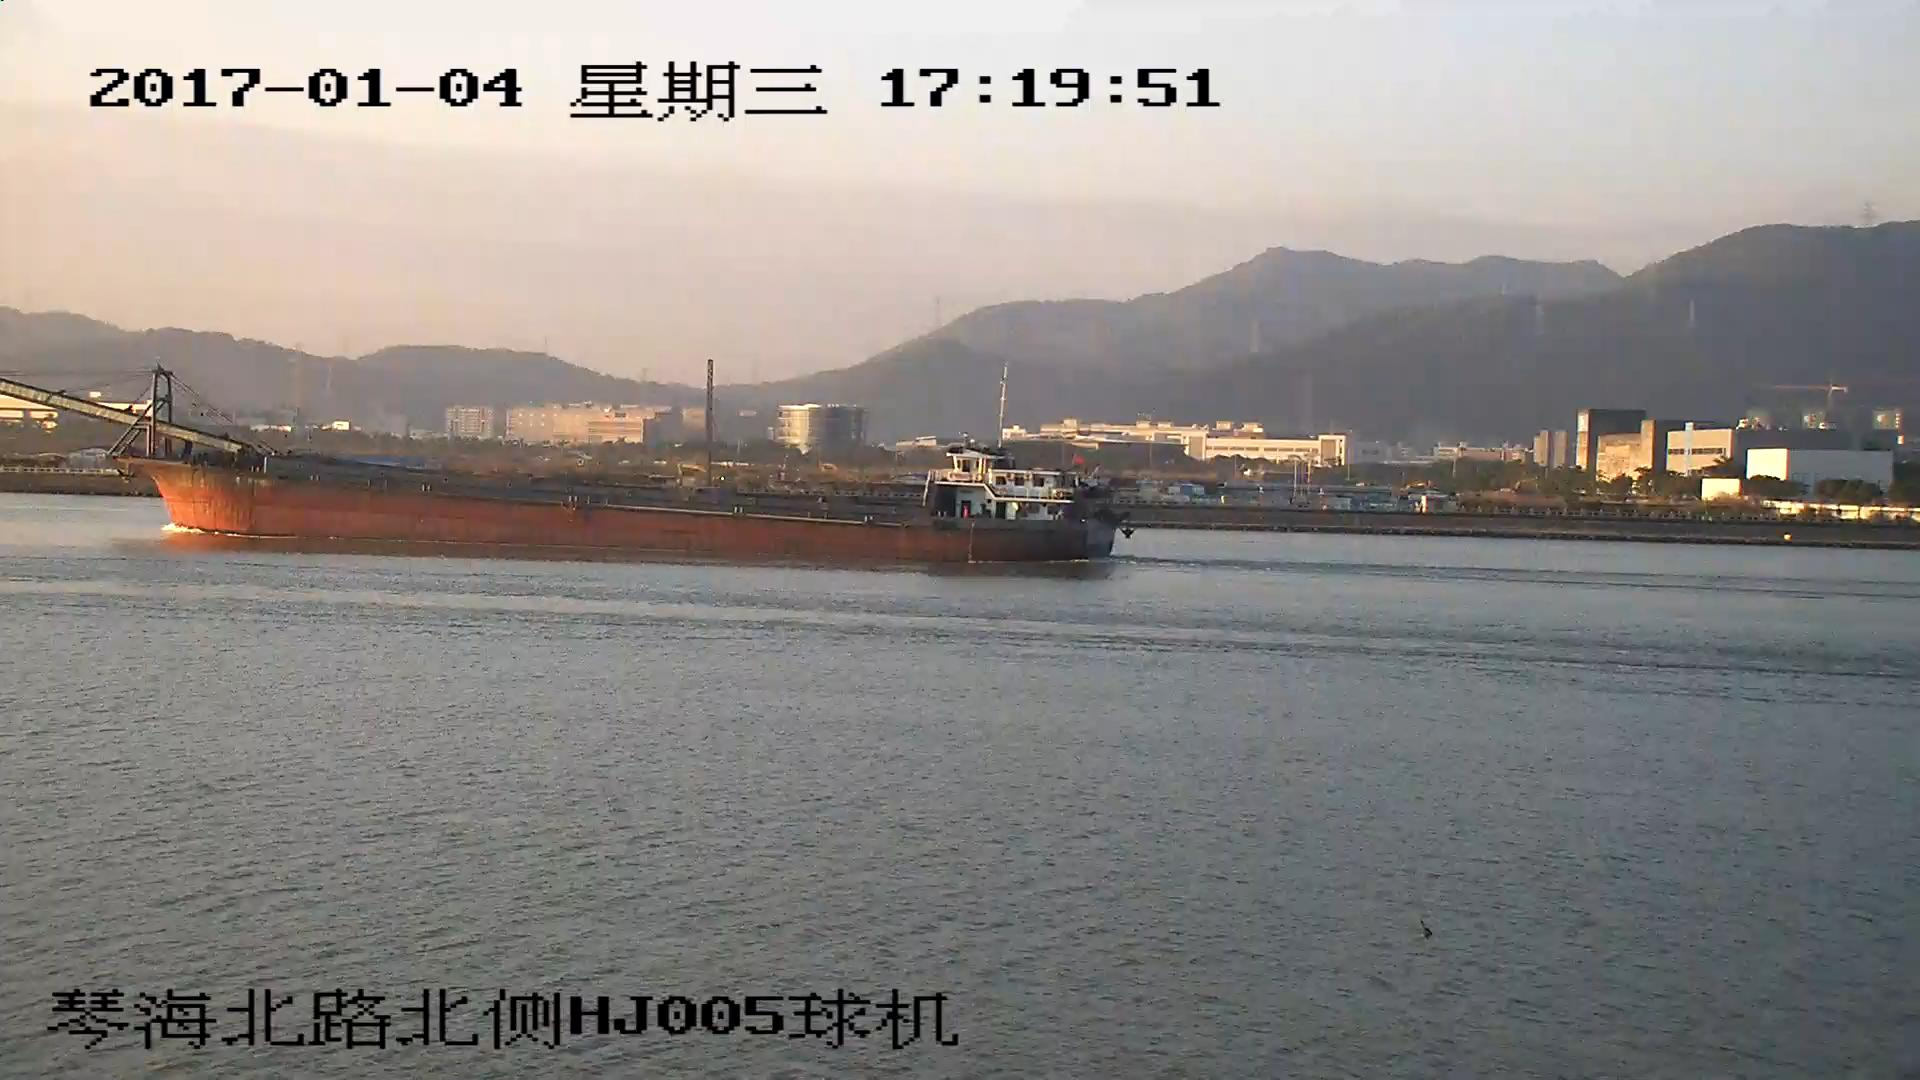bulk cargo carrier: (1, 367, 1136, 558)
